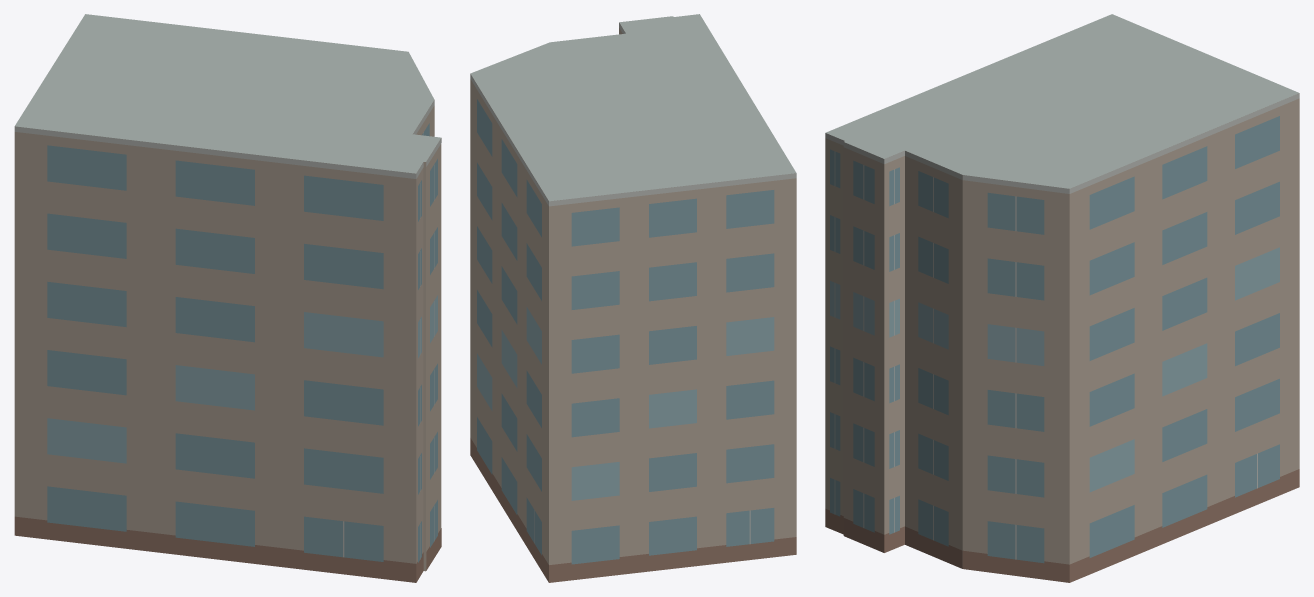
The model's file is survey-upis-32579697.glb.
3 views of the same model, side by side, from view 1: azimuth 30°, elevation 25°; view 2: azimuth 150°, elevation 25°; view 3: azimuth 270°, elevation 25° (orthographic). The views are drawn at different scales.
Visible parts, largest first — view 1: survey-upis-32579697.tmp; view 2: survey-upis-32579697.tmp; view 3: survey-upis-32579697.tmp.
Part boxes in pixels (x1,y1,x2,y2): survey-upis-32579697.tmp: (14,14,441,582); survey-upis-32579697.tmp: (470,14,796,582); survey-upis-32579697.tmp: (825,14,1299,582).
Bounding box in the file's own units: 17.42 × 18.3 × 19.97.
